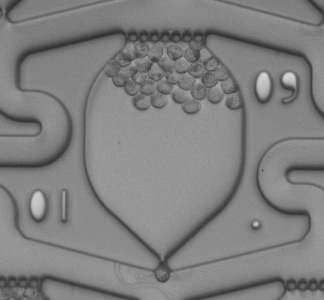AptNum: (244, 65, 306, 110)
Marker: (241, 211, 271, 238)
StNum: (19, 181, 81, 231)
